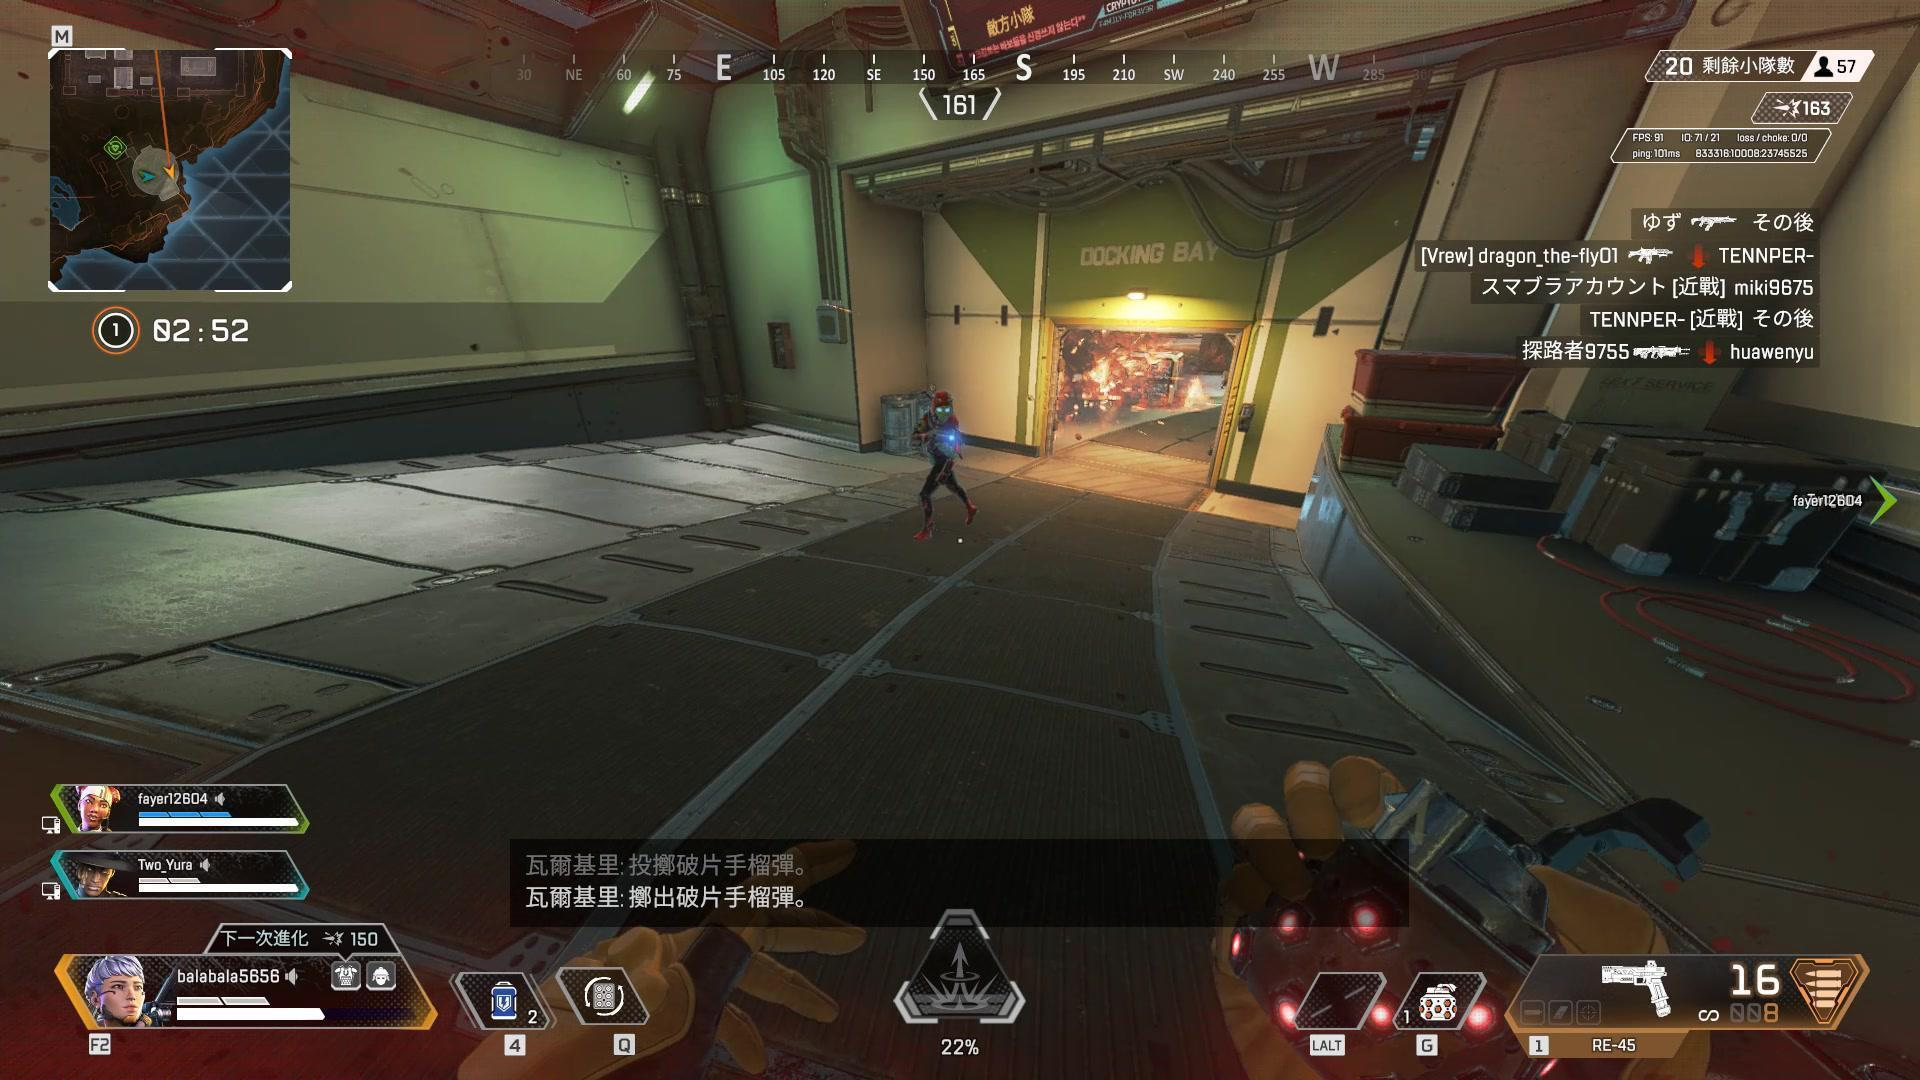avatar: (910, 388, 963, 545)
